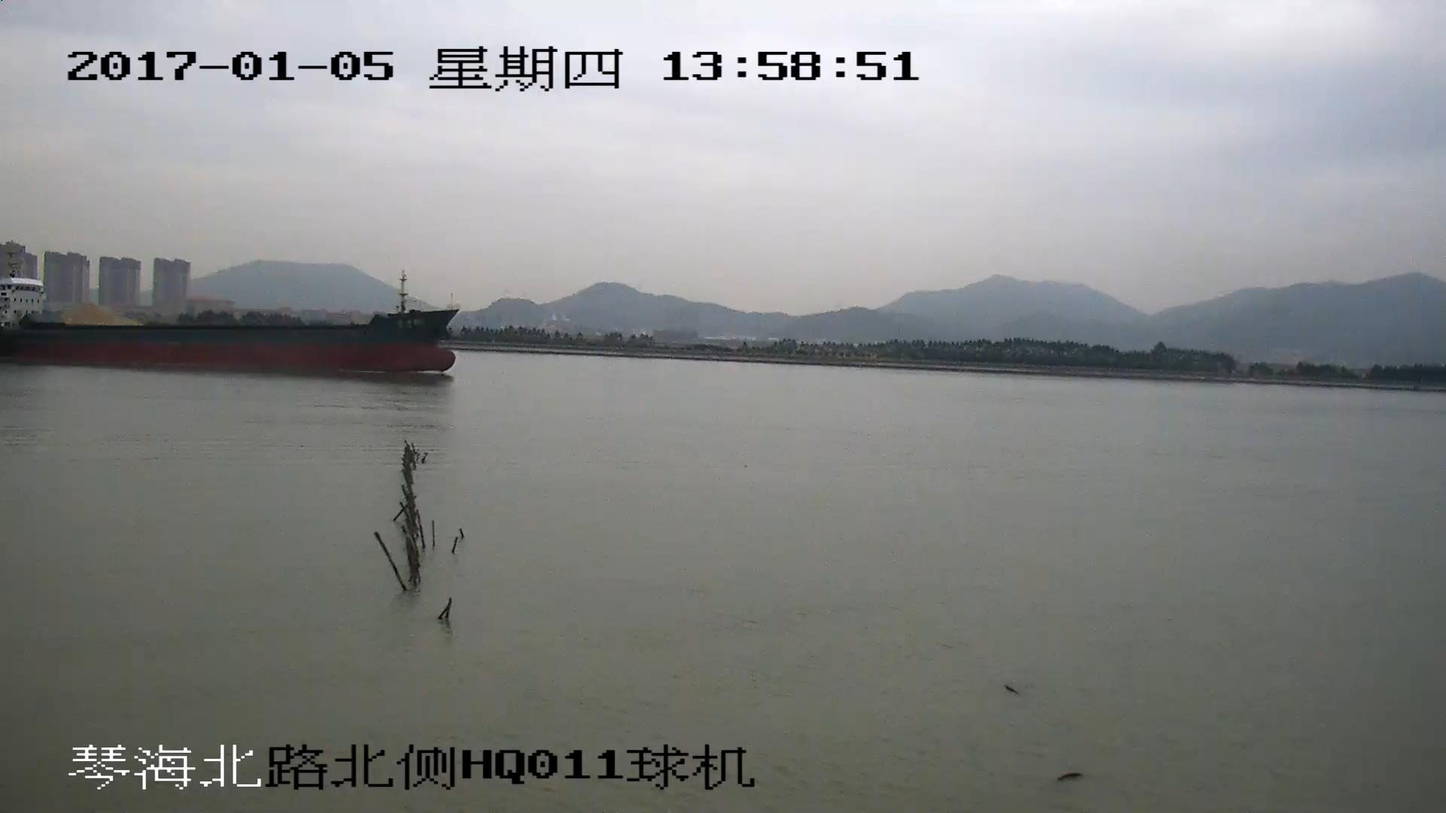general cargo ship: (0, 269, 460, 370)
